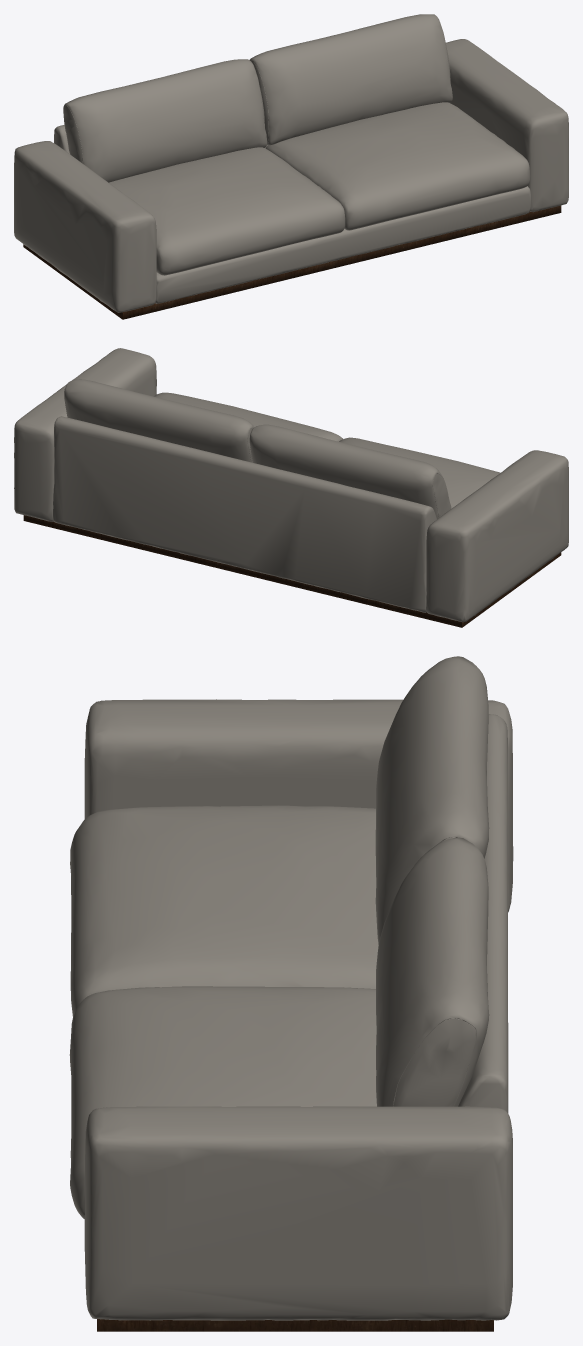
File: bella-3d-two-seat-sofa.glb
3 views of the same model, one above another, from view 1: azimuth 30°, elevation 25°; view 2: azimuth 150°, elevation 25°; view 3: azimuth 270°, elevation 25° (orthographic). The views are drawn at different scales.
Parts seen in each view (by area): view 1: felt-sofa-10, felt-sofa-8; view 2: felt-sofa-10, felt-sofa-8; view 3: felt-sofa-10, felt-sofa-8.
Boxes of the visible parts, x1,y1,x2,y2 form: felt-sofa-10: (14,14,568,312); felt-sofa-8: (23,205,561,319); felt-sofa-10: (14,348,568,622); felt-sofa-8: (23,515,561,627); felt-sofa-10: (69,656,513,1320); felt-sofa-8: (97,1319,493,1331).
Bounding box in the file's own units: 2.39 × 0.7277 × 1.01.
4 materials, 1 textured.
